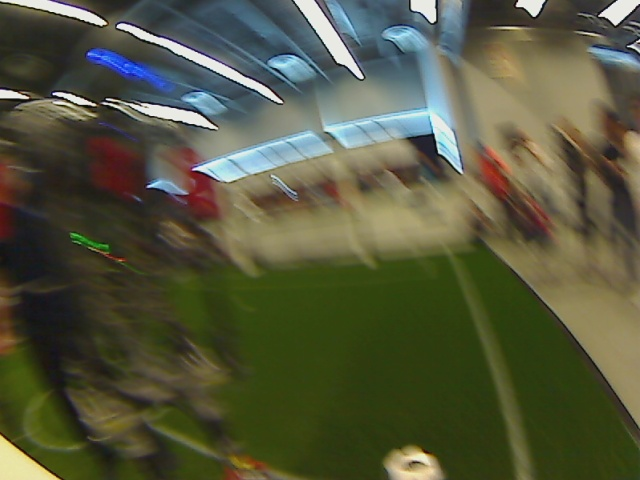ball: (375, 443, 449, 479)
goalpost: (336, 235, 372, 267), (233, 255, 262, 292)
robot: (31, 430, 268, 478)
